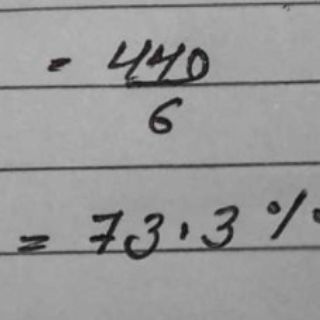.: (177, 219, 191, 243)
0: (185, 47, 212, 80)
3: (123, 212, 167, 260), (197, 203, 241, 248)
4: (106, 34, 151, 81), (145, 41, 185, 79)
6: (146, 94, 189, 137)
7: (86, 204, 124, 256)
